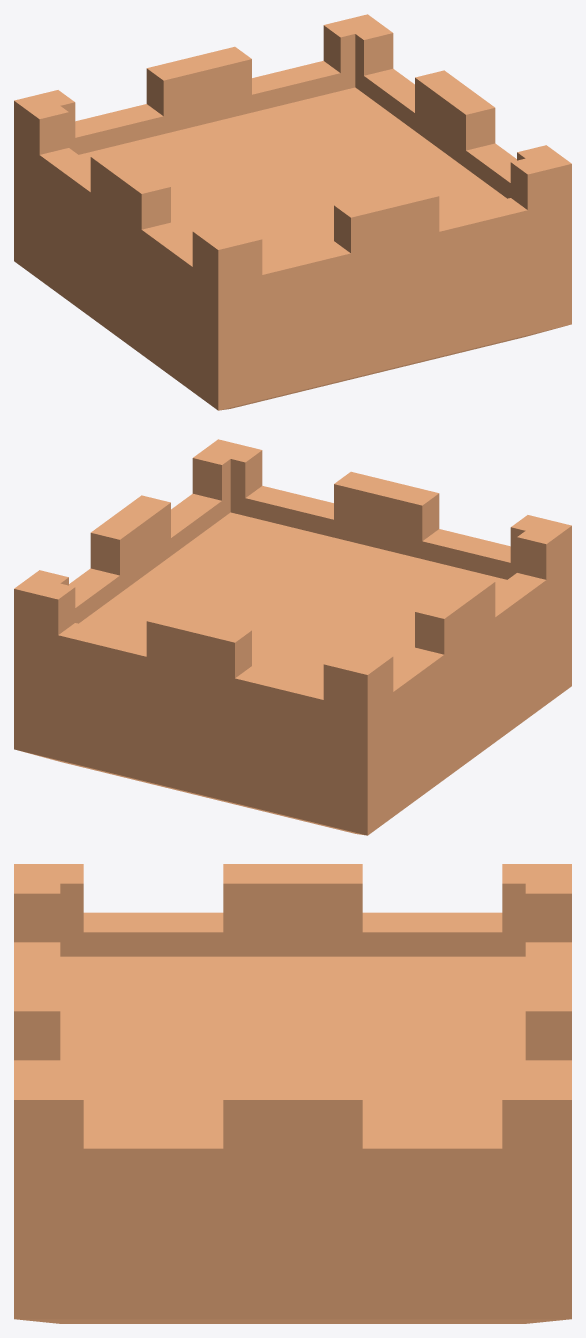
Rendered from Tower_001.fbx.
The picture shows the model from 3 angles, top to bottom: view 1: azimuth 30°, elevation 25°; view 2: azimuth 150°, elevation 25°; view 3: azimuth 270°, elevation 25°; orthographic projection. The views are drawn at different scales.
Visible parts, largest first — view 1: Tower.001; view 2: Tower.001; view 3: Tower.001.
Part boxes in pixels (x1,y1,x2,y2): Tower.001: (14,14,571,410); Tower.001: (14,439,571,835); Tower.001: (14,864,571,1323).
Size of the model in its own units: 120 by 57.84 by 120.
